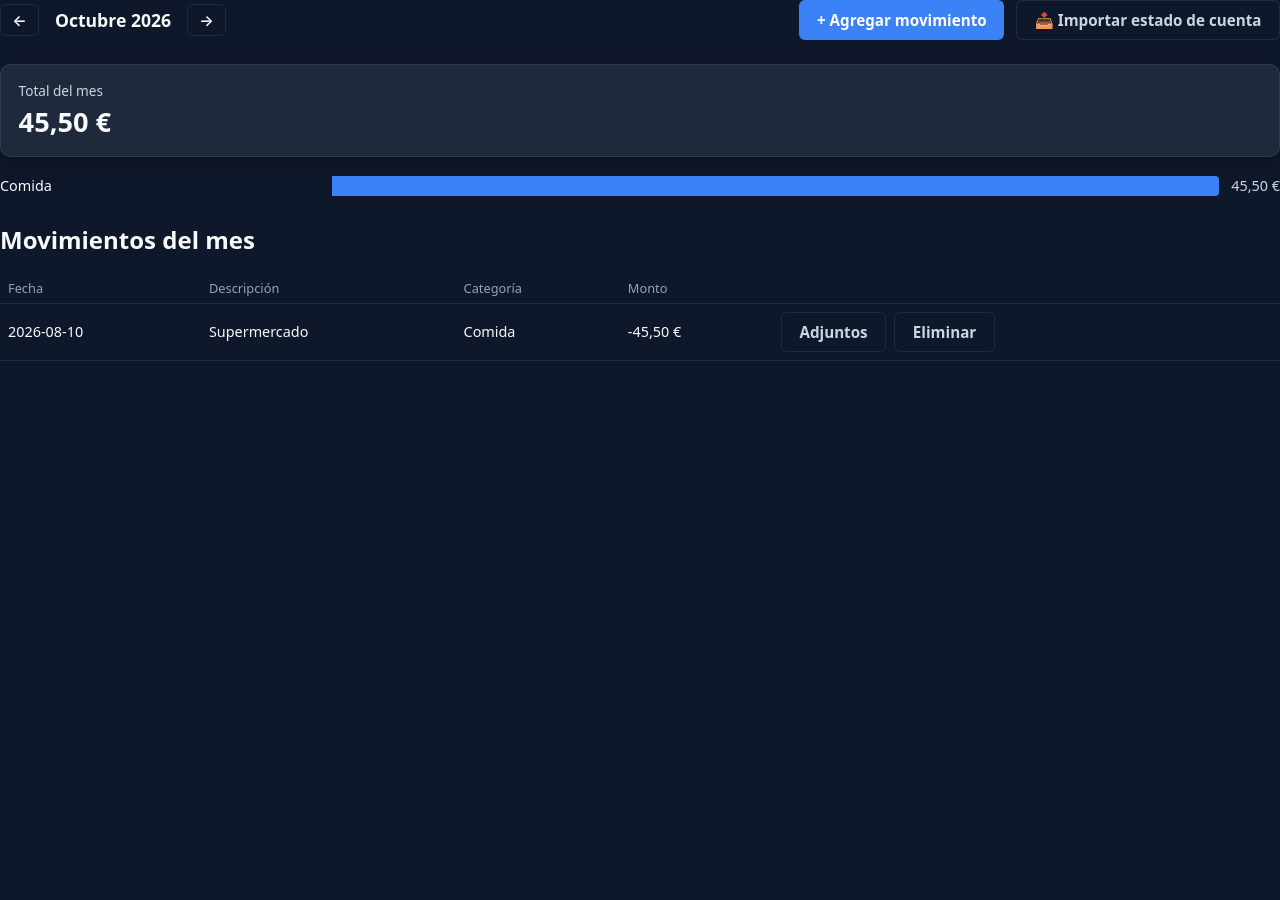
Test: TransactionsPage › abre el modal de importar al hacer clic en el botón
expect the text "Supermercado" is shown: met, box [201,303,456,360]
Click the button "📥 Importar estado de cuenta". click: coordinates (1148, 20)
box: [1016,0,1279,40]
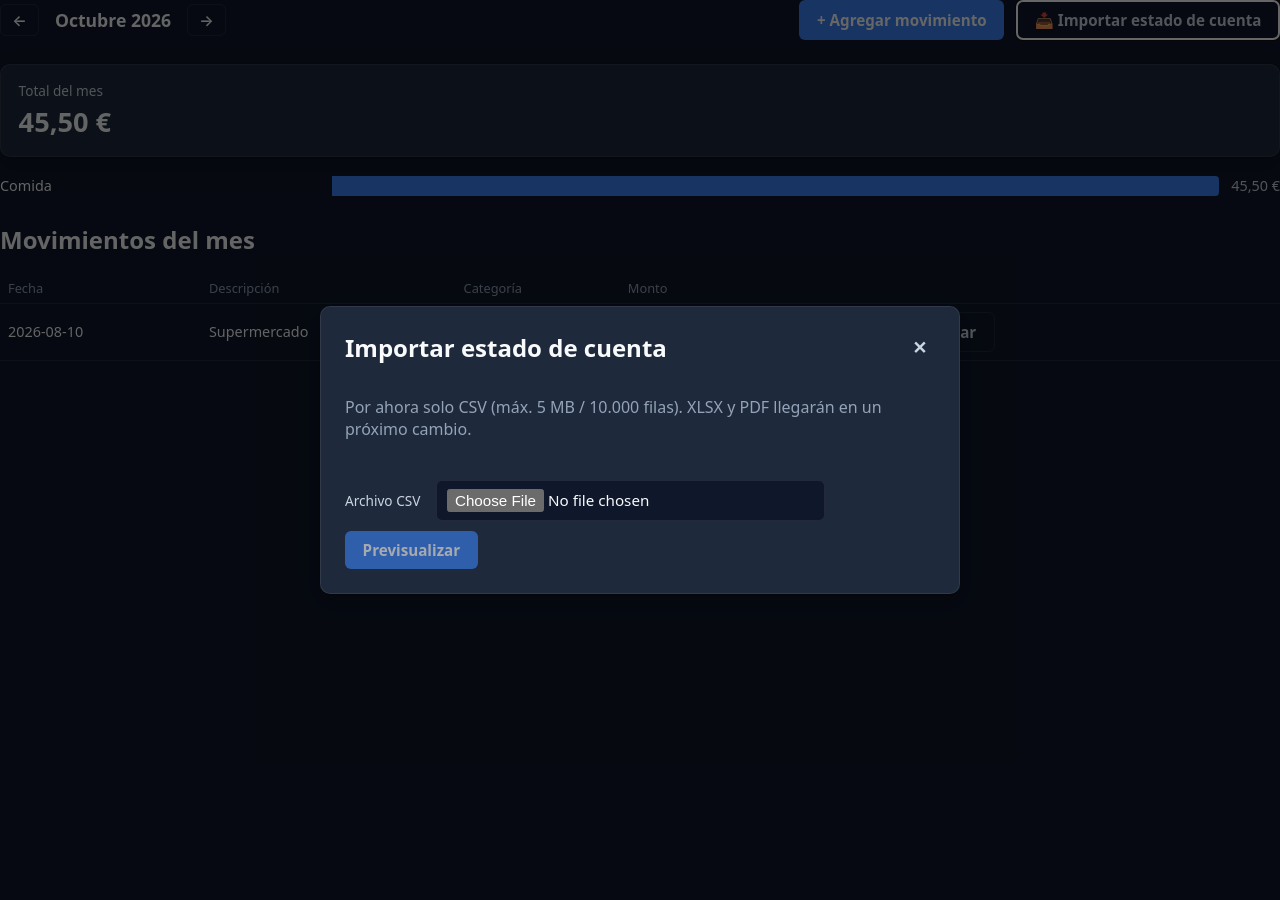
expect the dialog "Importar estado de cuenta" is shown: met, box [320,306,960,594]
